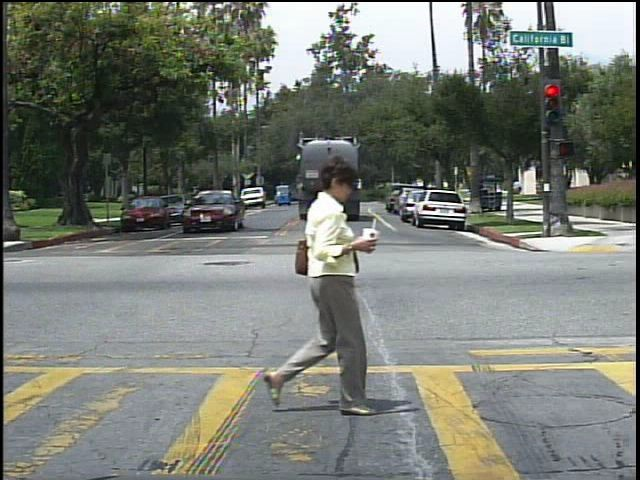person: (253, 151, 373, 423), (515, 180, 528, 199)
